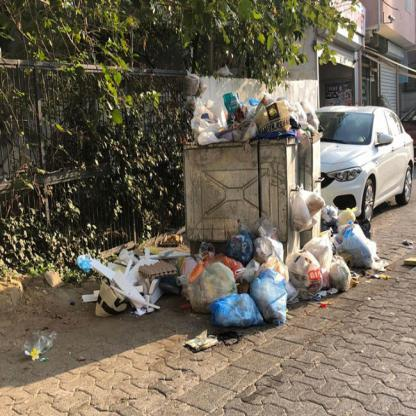Garbage: (80, 257, 298, 364), (180, 238, 393, 310), (192, 97, 326, 138), (336, 213, 404, 292), (290, 238, 360, 311), (288, 252, 328, 296), (213, 295, 260, 330), (292, 192, 324, 232), (256, 103, 294, 136), (219, 89, 252, 122)
